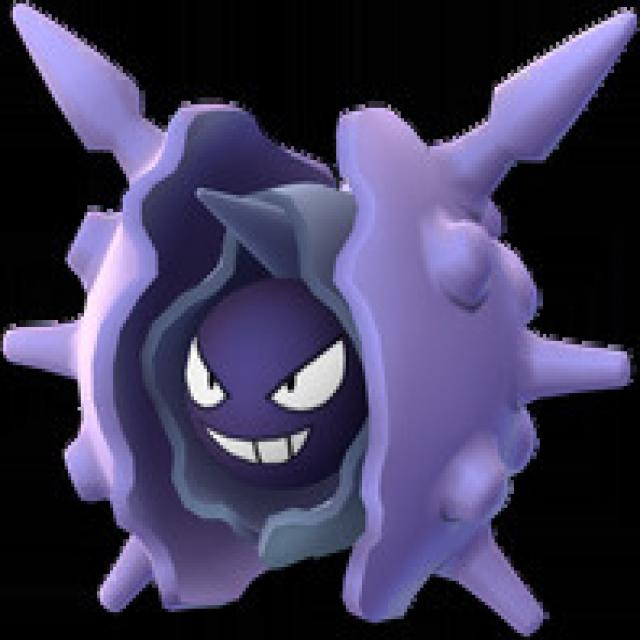Cloyster: (47, 120, 555, 596)
